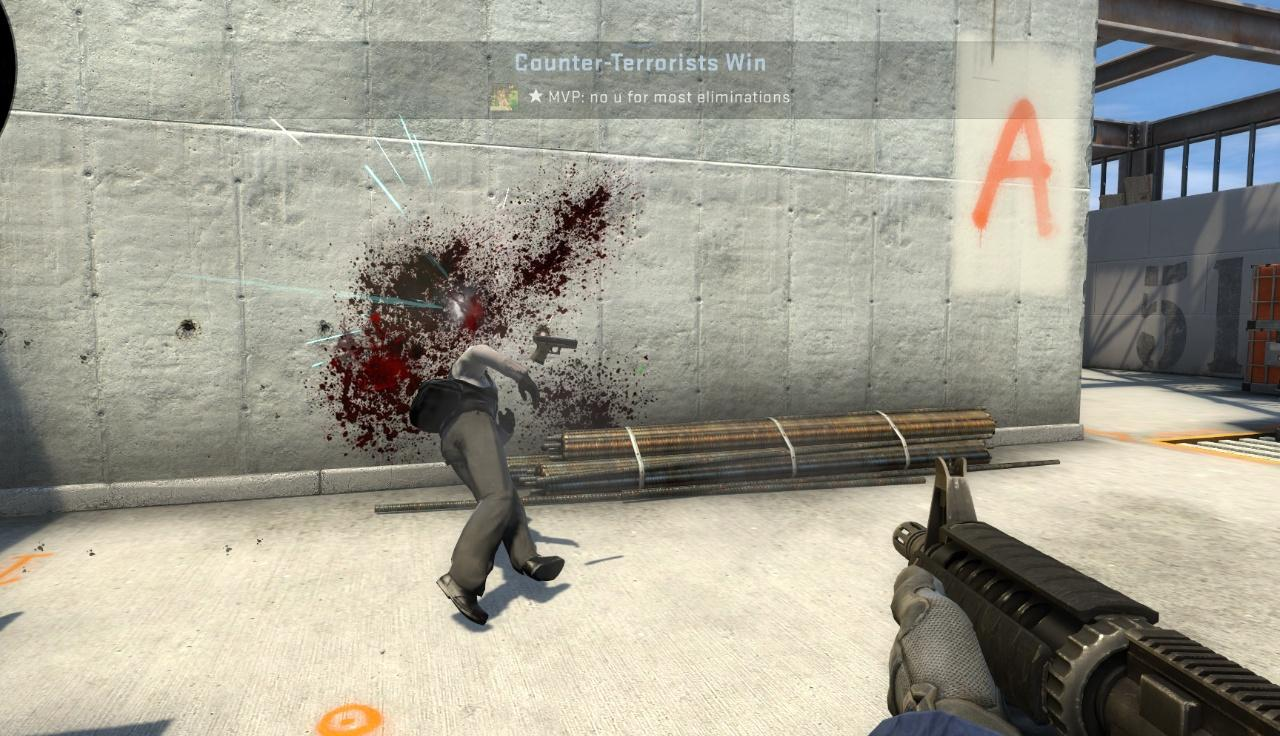rifle: (885, 449, 1280, 734)
